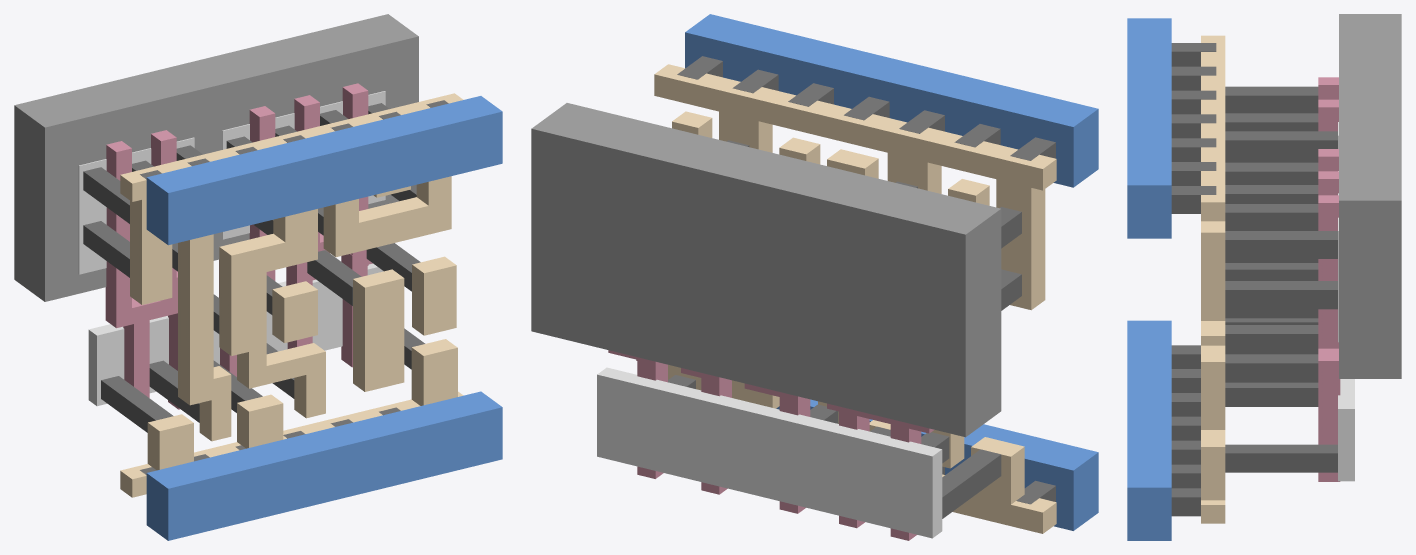
The model's file is sky130_fd_sc_hd__a21o_2.gds.gltf.
The picture shows the model from 3 angles, left to right: view 1: azimuth 30°, elevation 25°; view 2: azimuth 150°, elevation 25°; view 3: azimuth 270°, elevation 25°; orthographic projection. The views are drawn at different scales.
Parts seen in each view (by area): view 1: sky130_fd_sc_hd__a21o_2_li1, sky130_fd_sc_hd__a21o_2_met1, sky130_fd_sc_hd__a21o_2_nwell, sky130_fd_sc_hd__a21o_2_licon, sky130_fd_sc_hd__a21o_2_poly, sky130_fd_sc_hd__a21o_2_diff, sky130_fd_sc_hd__a21o_2_mcon; view 2: sky130_fd_sc_hd__a21o_2_nwell, sky130_fd_sc_hd__a21o_2_diff, sky130_fd_sc_hd__a21o_2_li1, sky130_fd_sc_hd__a21o_2_met1, sky130_fd_sc_hd__a21o_2_mcon, sky130_fd_sc_hd__a21o_2_licon, sky130_fd_sc_hd__a21o_2_poly; view 3: sky130_fd_sc_hd__a21o_2_licon, sky130_fd_sc_hd__a21o_2_nwell, sky130_fd_sc_hd__a21o_2_met1, sky130_fd_sc_hd__a21o_2_mcon, sky130_fd_sc_hd__a21o_2_li1, sky130_fd_sc_hd__a21o_2_poly, sky130_fd_sc_hd__a21o_2_diff.
Part boxes in pixels (x1,y1,x2,y2): sky130_fd_sc_hd__a21o_2_li1: (120, 93, 463, 497); sky130_fd_sc_hd__a21o_2_met1: (146, 96, 502, 540); sky130_fd_sc_hd__a21o_2_nwell: (14, 14, 418, 301); sky130_fd_sc_hd__a21o_2_licon: (83, 103, 425, 432); sky130_fd_sc_hd__a21o_2_poly: (105, 83, 372, 409); sky130_fd_sc_hd__a21o_2_diff: (78, 91, 385, 406); sky130_fd_sc_hd__a21o_2_mcon: (140, 100, 448, 474); sky130_fd_sc_hd__a21o_2_nwell: (531, 103, 1001, 437); sky130_fd_sc_hd__a21o_2_diff: (597, 367, 942, 538); sky130_fd_sc_hd__a21o_2_li1: (654, 64, 1056, 533); sky130_fd_sc_hd__a21o_2_met1: (685, 14, 1098, 530); sky130_fd_sc_hd__a21o_2_mcon: (677, 56, 1055, 504); sky130_fd_sc_hd__a21o_2_licon: (668, 140, 1021, 518); sky130_fd_sc_hd__a21o_2_poly: (608, 350, 934, 540); sky130_fd_sc_hd__a21o_2_licon: (1225, 86, 1337, 472); sky130_fd_sc_hd__a21o_2_nwell: (1339, 14, 1401, 378); sky130_fd_sc_hd__a21o_2_met1: (1127, 18, 1171, 540); sky130_fd_sc_hd__a21o_2_mcon: (1171, 43, 1216, 516); sky130_fd_sc_hd__a21o_2_li1: (1201, 35, 1225, 523); sky130_fd_sc_hd__a21o_2_poly: (1318, 77, 1340, 481); sky130_fd_sc_hd__a21o_2_diff: (1338, 122, 1354, 481).
Bounding box in the file's own units: 3.6 × 3.2 × 2.24.
